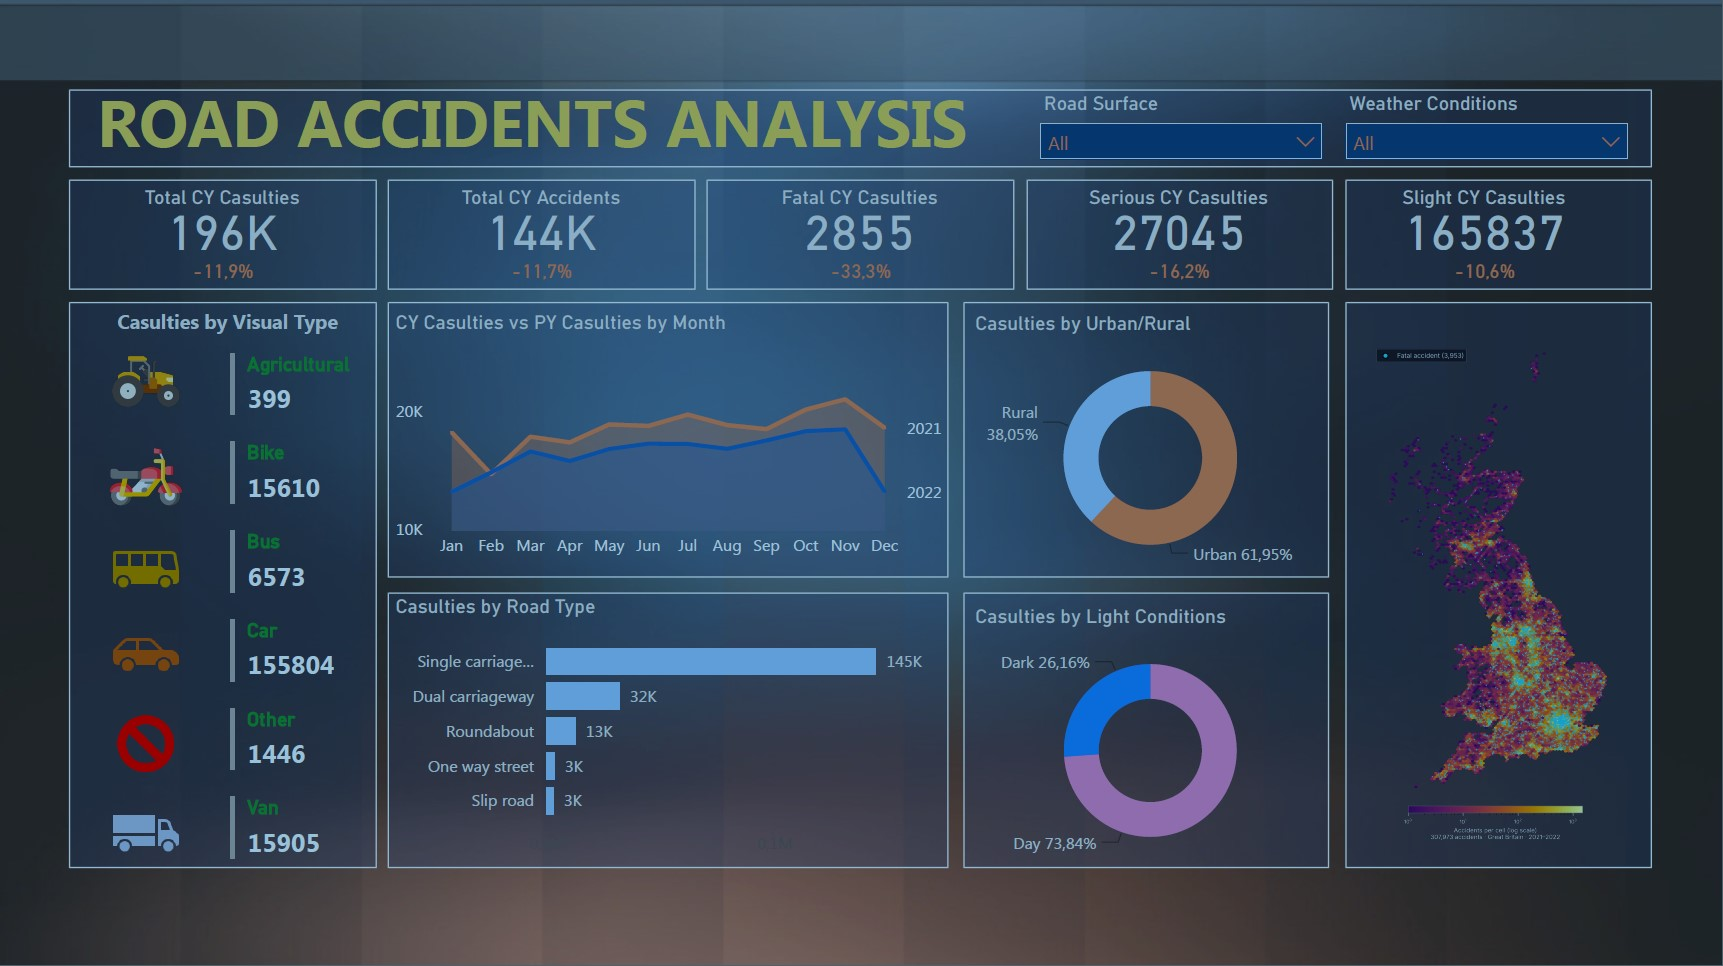

The dashboard page shown, as its layout file describes it:
{"tool":"powerbi","page":{"name":"Page 1","canvas":[1280,720],"ordinal":0},"visuals":[{"type":"group","id":"g1","title":"Group 1","box":[52.3,139.4,226.5,79],"z":0},{"type":"card","title":"Total CY Casulties","fields":{"Values":["Data.CY Casulties"]},"box":[52.3,139.4,226.5,52.3],"z":0,"group":"g1"},{"type":"card","title":"Total CY Accidents","fields":{"Values":["_Measures.CY Accidents Count"]},"box":[289.2,139.4,226.5,52.3],"z":0,"group":"g2"},{"type":"card","title":"Fatal CY Casulties","fields":{"Values":["Data.CY Casulties"]},"box":[526.2,139.4,226.5,52.3],"z":0,"group":"g3"},{"type":"card","title":"Serious CY Casulties","fields":{"Values":["Data.CY Casulties"]},"box":[763.1,139.4,226.5,52.3],"z":0,"group":"g4"},{"type":"card","title":"Slight CY Casulties","fields":{"Values":["Data.CY Casulties"]},"box":[989.6,139.4,226.5,52.3],"z":0,"group":"g5"},{"type":"group","id":"g2","title":"Group 1","box":[289.2,139.4,226.5,79],"z":1000},{"type":"card","title":"Total YOY Casulties","fields":{"Values":["_Measures.YOY Casulties"]},"box":[120.8,189.3,89.4,29],"z":1000,"group":"g1"},{"type":"card","title":"Total YOY Casulties","fields":{"Values":["_Measures.YOY Accidents"]},"box":[357.7,189.3,89.4,29],"z":1000,"group":"g2"},{"type":"card","title":"Total YOY Casulties","fields":{"Values":["_Measures.YOY Casulties"]},"box":[594.7,189.3,89.4,29],"z":1000,"group":"g3"},{"type":"card","title":"Total YOY Casulties","fields":{"Values":["_Measures.YOY Casulties"]},"box":[831.6,189.3,89.4,29],"z":1000,"group":"g4"},{"type":"card","title":"Total YOY Casulties","fields":{"Values":["_Measures.YOY Casulties"]},"box":[1058.1,189.3,89.4,29],"z":1000,"group":"g5"},{"type":"group","id":"g3","title":"Group 1","box":[526.2,139.4,226.5,79],"z":2000},{"type":"group","id":"g4","title":"Group 1","box":[763.1,139.4,226.5,79],"z":3000},{"type":"group","id":"g5","title":"Group 1","box":[989.6,139.4,226.5,79],"z":4000},{"type":"textbox","box":[67.4,53.4,670.2,86],"z":5000},{"type":"multiRowCard","fields":{"Values":["Data.Vehicle_Type (groups)","_Measures.CY Casulties"]},"box":[166.1,257.9,123.1,427.4],"z":6000},{"type":"image","box":[82.5,256.9,53,53],"z":7000},{"type":"image","box":[82.5,328.9,53,53],"z":7001},{"type":"image","box":[82.5,397.4,53,53],"z":7002},{"type":"image","box":[82.5,461.3,53,53],"z":7003},{"type":"image","box":[82.5,527.5,53,53],"z":7004},{"type":"image","box":[82.5,592.5,53,53],"z":7005},{"type":"textbox","box":[82.5,224.2,188.2,33.7],"z":7006},{"type":"areaChart","title":"CY Casulties vs PY Casulties by Month","fields":{"Category":["Calendar.Month"],"Y":["Sum(Data.Number_of_Casualties)"],"Series":["Calendar.Date.Variation.Date Hierarchy.Year"]},"box":[289.2,232.3,415.8,191.7],"z":7007},{"type":"donutChart","title":"Casulties by Urban/Rural","fields":{"Category":["Data.Urban_or_Rural_Area"],"Y":["_Measures.CY Casulties"]},"box":[720.1,233.5,269.5,199.8],"z":7008},{"type":"donutChart","title":"Casulties by Light Conditions","fields":{"Y":["_Measures.CY Casulties"],"Category":["Data.Light_Conditions (groups)"]},"box":[720.1,450.7,269.5,199.8],"z":7009},{"type":"barChart","title":"Casulties by Road Type","fields":{"Category":["Data.Road_Type"],"Y":["_Measures.CY Casulties"]},"box":[289.2,442.5,415.8,203.3],"z":7010},{"type":"map","title":"Casulties by Location","fields":{"Y":["Data.Latitude"],"X":["Data.Longitude"]},"box":[1000.1,232.3,230,413.5],"z":7011},{"type":"slicer","fields":{"Values":["Data.Weather_Conditions (groups)"]},"box":[989.6,63.9,230,63.9],"z":7012},{"type":"slicer","fields":{"Values":["Data.Road_Surface_Conditions (groups)"]},"box":[763.1,63.9,230,63.9],"z":7013}]}

Visuals, with their boxes in screenshot pixels (x1, y1, x2, y2), scaled from the page's 1280x720 canvas onto the 1723x966 screenshot:
"Group 1" group: Rect(70, 187, 375, 293)
"Total CY Casulties" card: Rect(70, 187, 375, 257)
"Total CY Accidents" card: Rect(389, 187, 694, 257)
"Fatal CY Casulties" card: Rect(708, 187, 1013, 257)
"Serious CY Casulties" card: Rect(1027, 187, 1332, 257)
"Slight CY Casulties" card: Rect(1332, 187, 1637, 257)
"Group 1" group: Rect(389, 187, 694, 293)
"Total YOY Casulties" card: Rect(163, 254, 283, 293)
"Total YOY Casulties" card: Rect(481, 254, 602, 293)
"Total YOY Casulties" card: Rect(801, 254, 921, 293)
"Total YOY Casulties" card: Rect(1119, 254, 1240, 293)
"Total YOY Casulties" card: Rect(1424, 254, 1545, 293)
"Group 1" group: Rect(708, 187, 1013, 293)
"Group 1" group: Rect(1027, 187, 1332, 293)
"Group 1" group: Rect(1332, 187, 1637, 293)
textbox: Rect(91, 72, 993, 187)
multiRowCard - Data.Vehicle_Type (groups) x _Measures.CY Casulties: Rect(224, 346, 389, 919)
image: Rect(111, 345, 182, 416)
image: Rect(111, 441, 182, 512)
image: Rect(111, 533, 182, 604)
image: Rect(111, 619, 182, 690)
image: Rect(111, 708, 182, 779)
image: Rect(111, 795, 182, 866)
textbox: Rect(111, 301, 364, 346)
"CY Casulties vs PY Casulties by Month" areaChart: Rect(389, 312, 949, 569)
"Casulties by Urban/Rural" donutChart: Rect(969, 313, 1332, 581)
"Casulties by Light Conditions" donutChart: Rect(969, 605, 1332, 873)
"Casulties by Road Type" barChart: Rect(389, 594, 949, 866)
"Casulties by Location" map: Rect(1346, 312, 1656, 866)
slicer - Data.Weather_Conditions (groups): Rect(1332, 86, 1642, 171)
slicer - Data.Road_Surface_Conditions (groups): Rect(1027, 86, 1337, 171)
